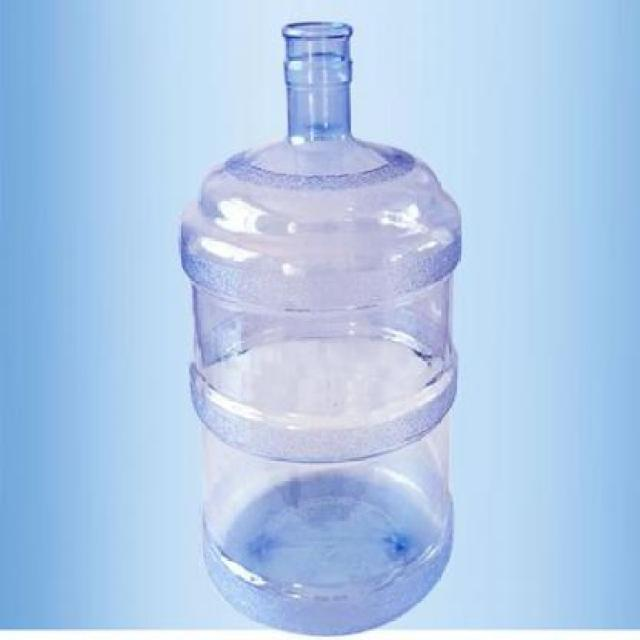coolerbottle: (175, 12, 472, 640)
